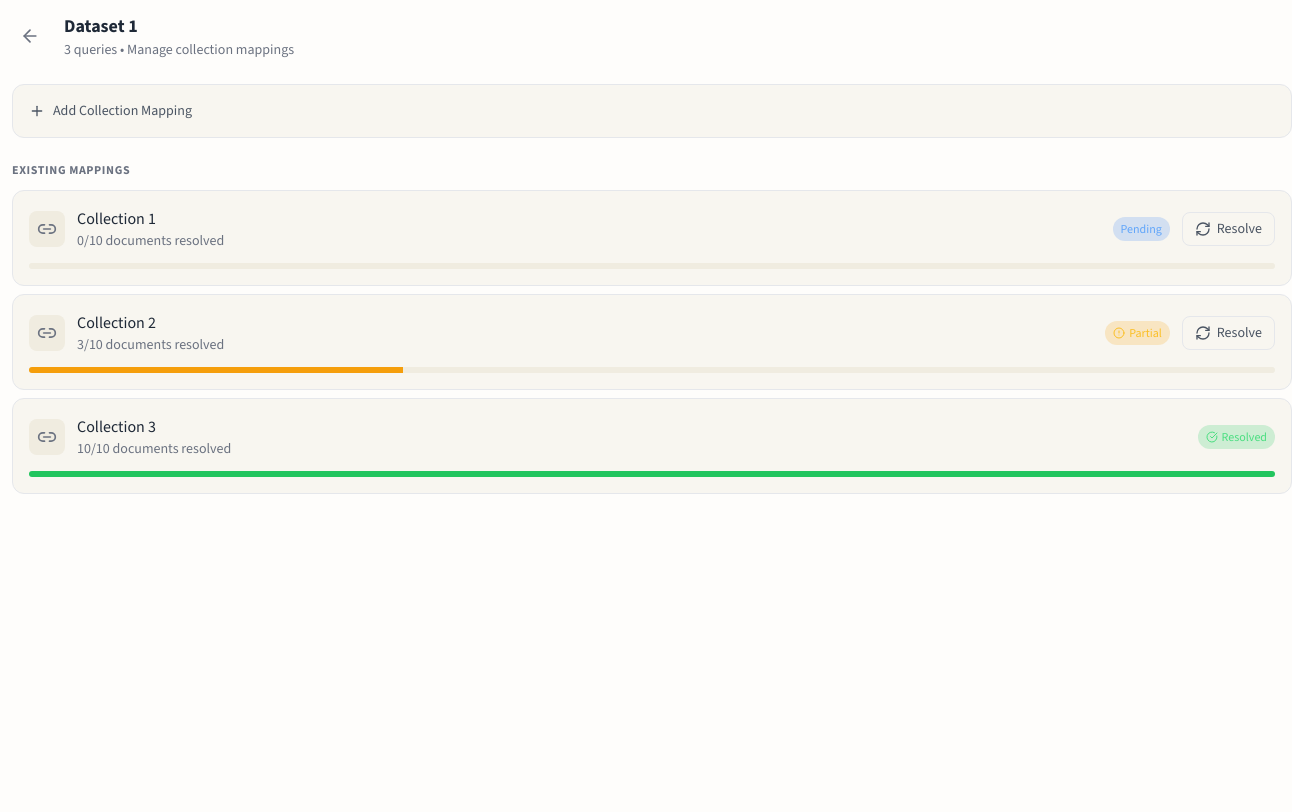
MappingManagementPanel › creates a mapping and then shows live resolution progress
# Add mapping flow (c4 is the only available collection)
Click the button "Add Collection Mapping". click: point(110, 111)
box: 29,101 -> 192,121
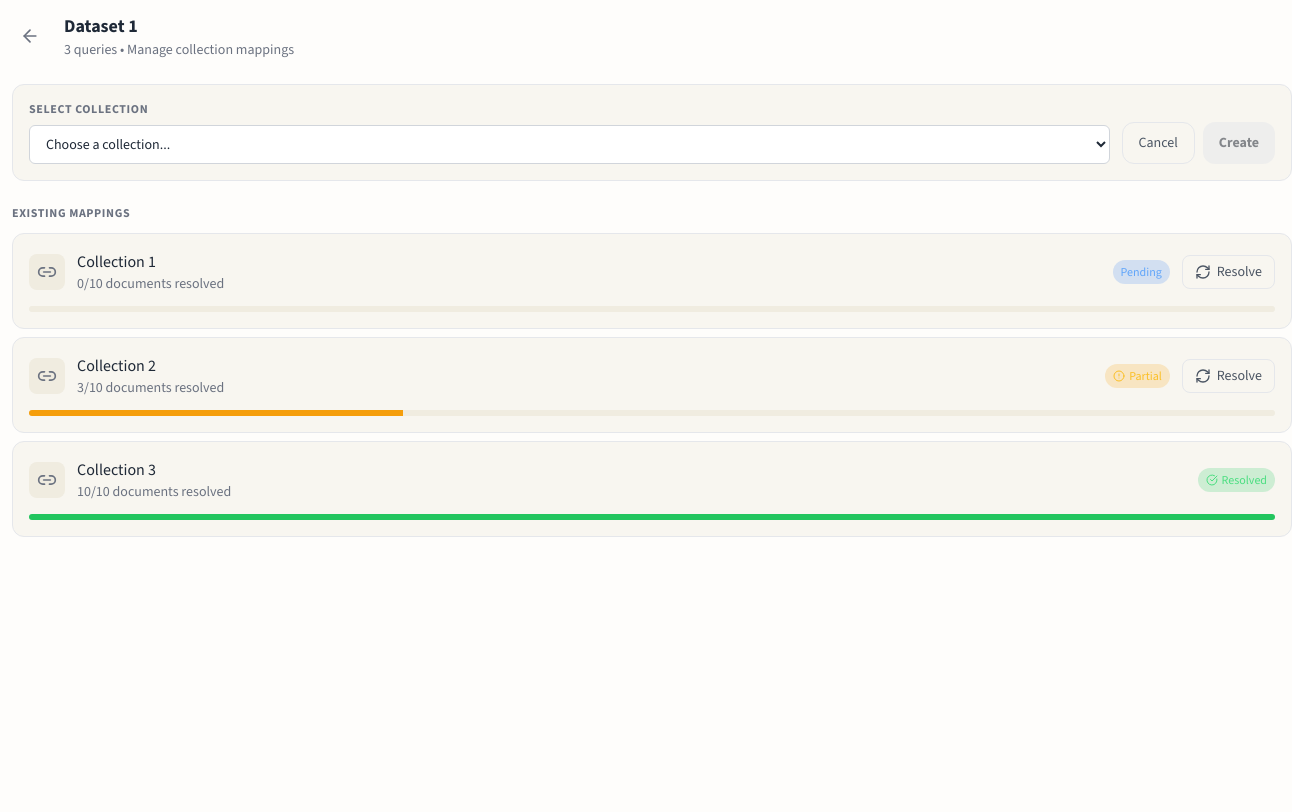
Select "Collection 4 (40 docs)" in the dropdown. click: point(569, 144)
box: 29,125 -> 1110,164
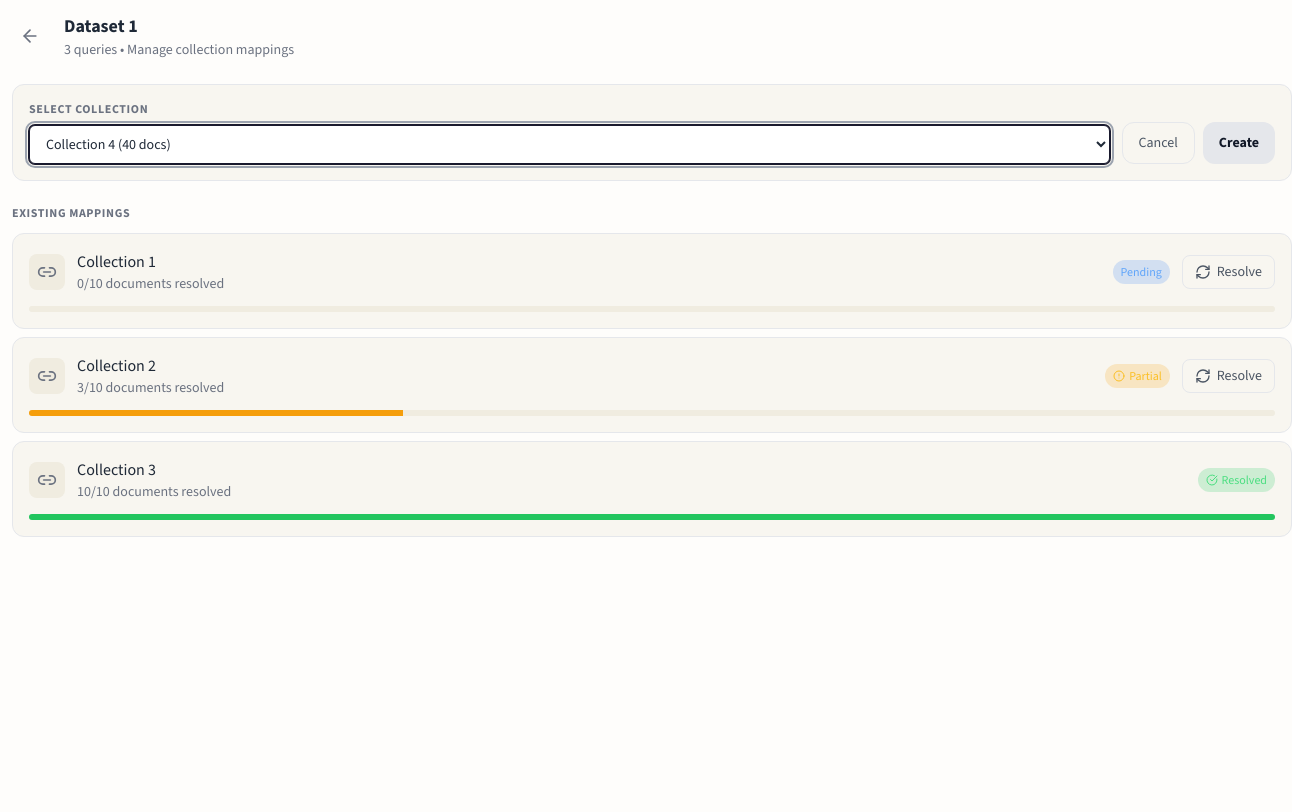
Click the button "Create". click: point(1239, 143)
box: 1203,122 -> 1275,164
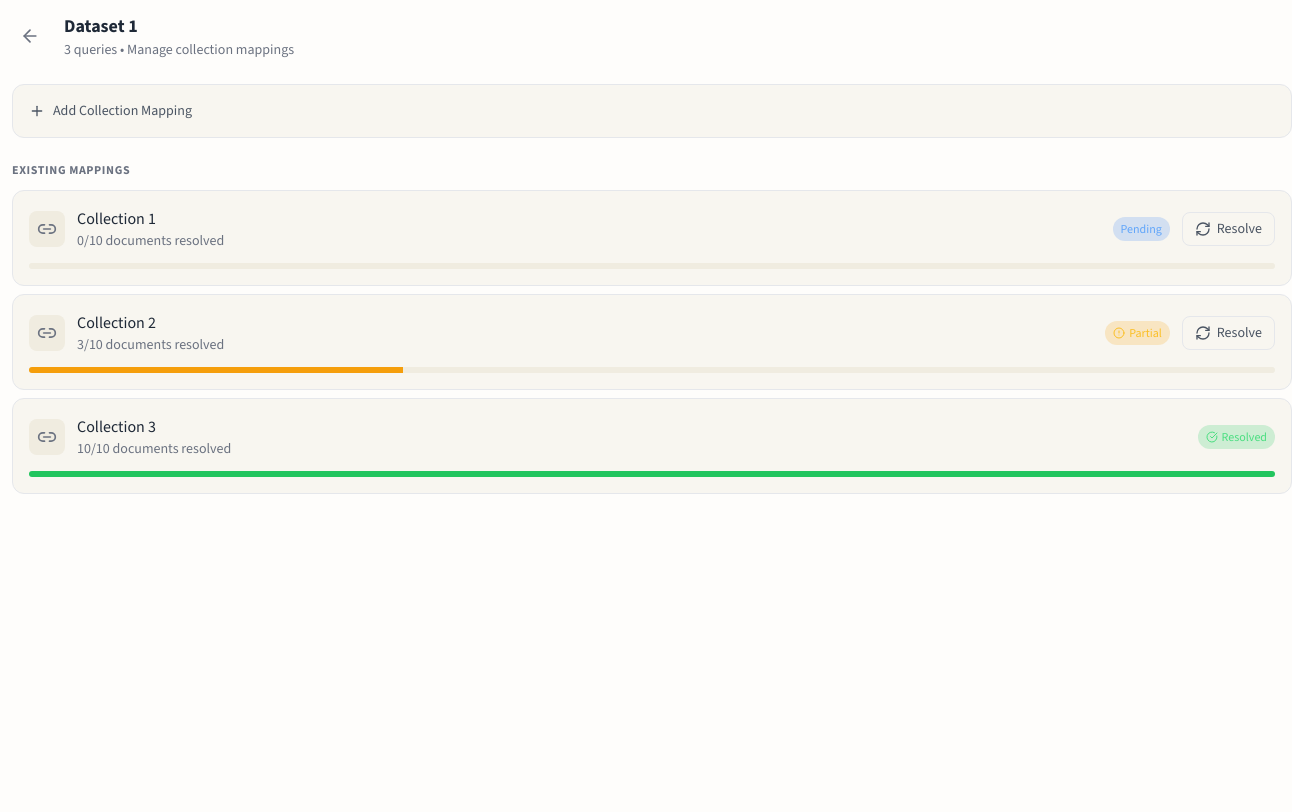
# Resolve a pending mapping
Click the button "Resolve" next to "Pending". click: point(1228, 229)
box: 1182,212 -> 1275,246
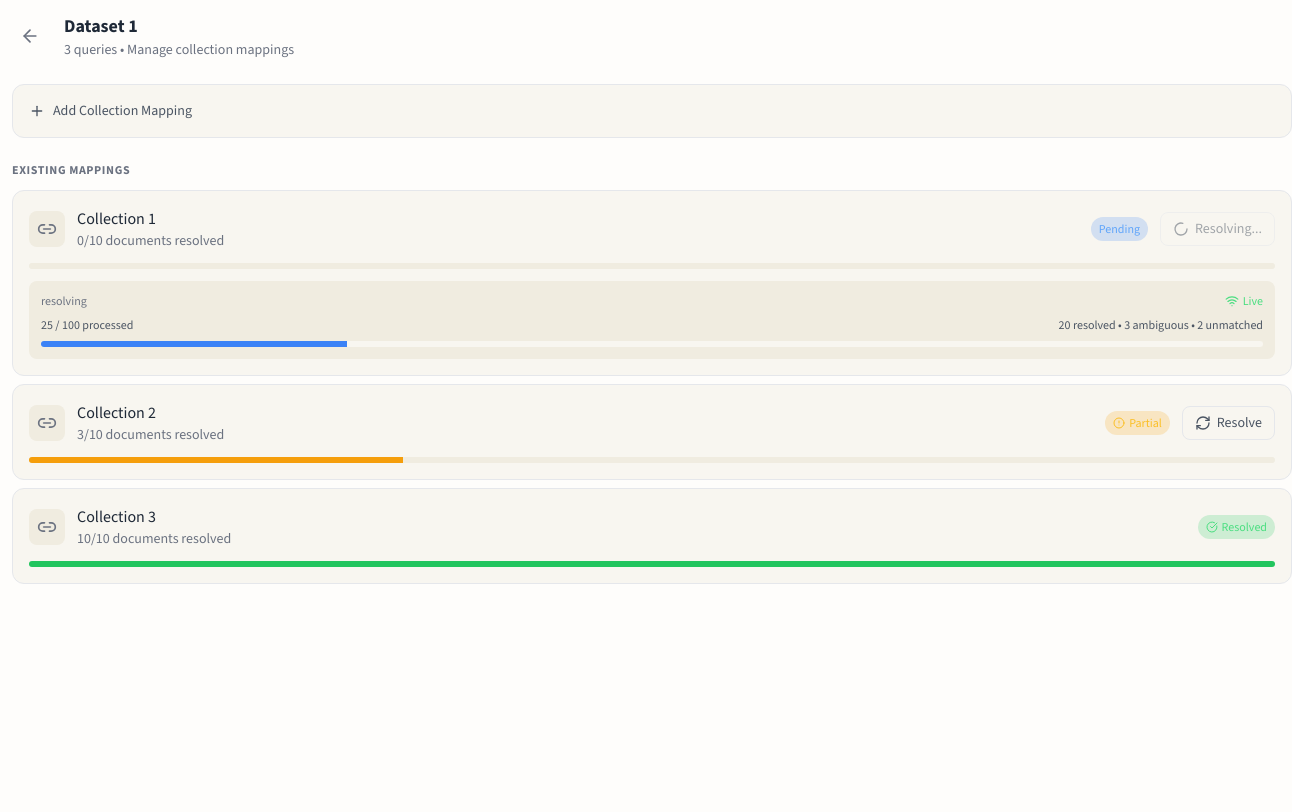
Expected: the text "resolving" is shown, 41,293 -> 87,309
Expected: the text "Live" is shown, 1225,293 -> 1263,309
Expected: the text "25 / 100 processed" is shown, 41,317 -> 133,333
